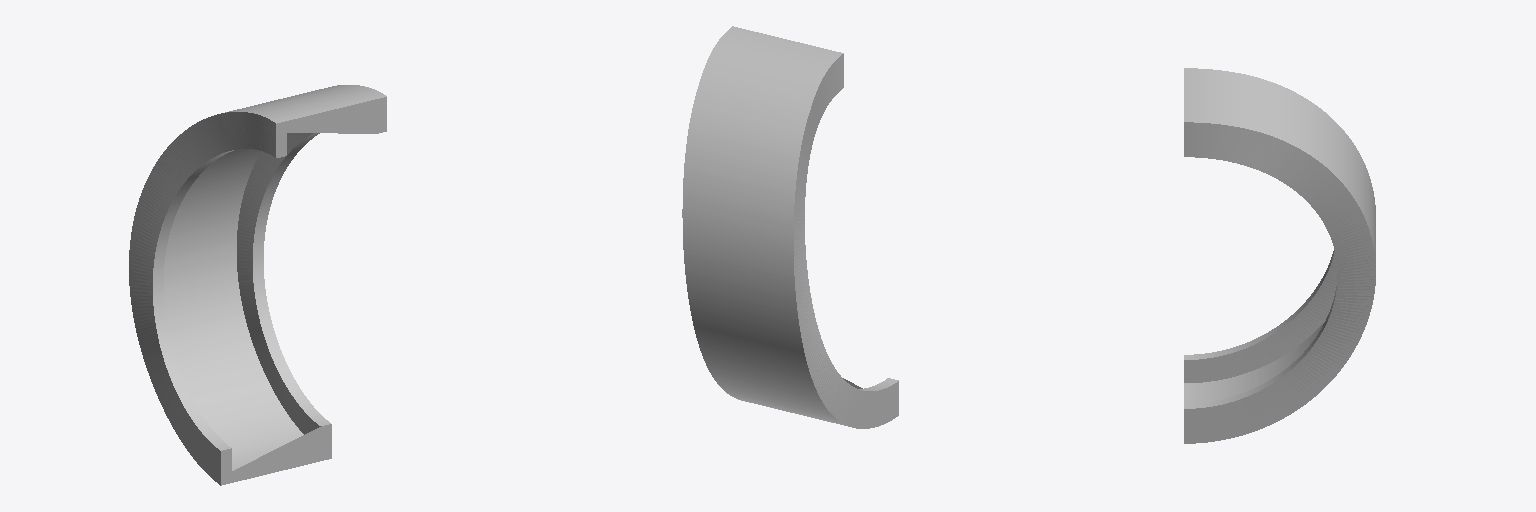
Rendered from Loop.obj.
3 views of the same model, side by side, from view 1: azimuth 30°, elevation 25°; view 2: azimuth 150°, elevation 25°; view 3: azimuth 270°, elevation 25° (orthographic).
Visible parts, largest first — view 1: Loop; view 2: Loop; view 3: Loop.
Part boxes in pixels (x1,y1,x2,y2): Loop: (129, 85, 386, 485); Loop: (682, 26, 898, 428); Loop: (1184, 68, 1375, 443).
Size of the model in its own units: 3 by 6 by 3.